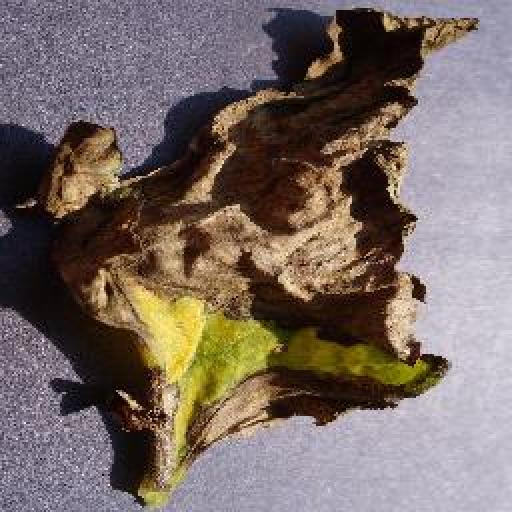Late Blight: (40, 8, 481, 489)
